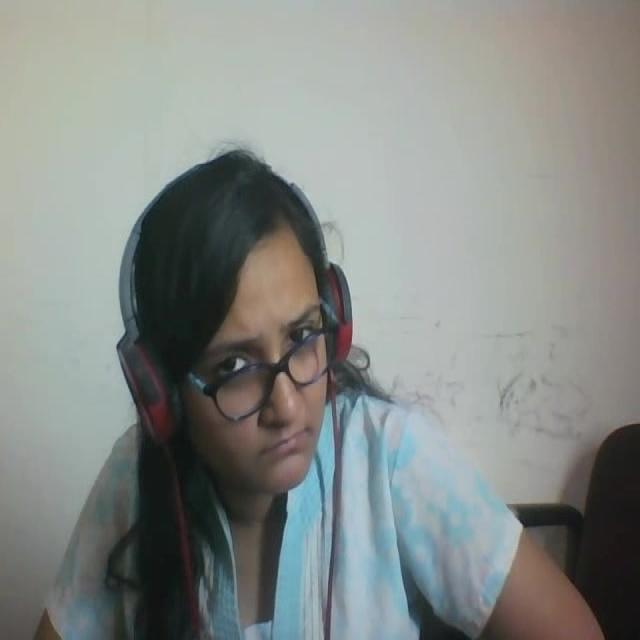Bored: (102, 137, 393, 513)
